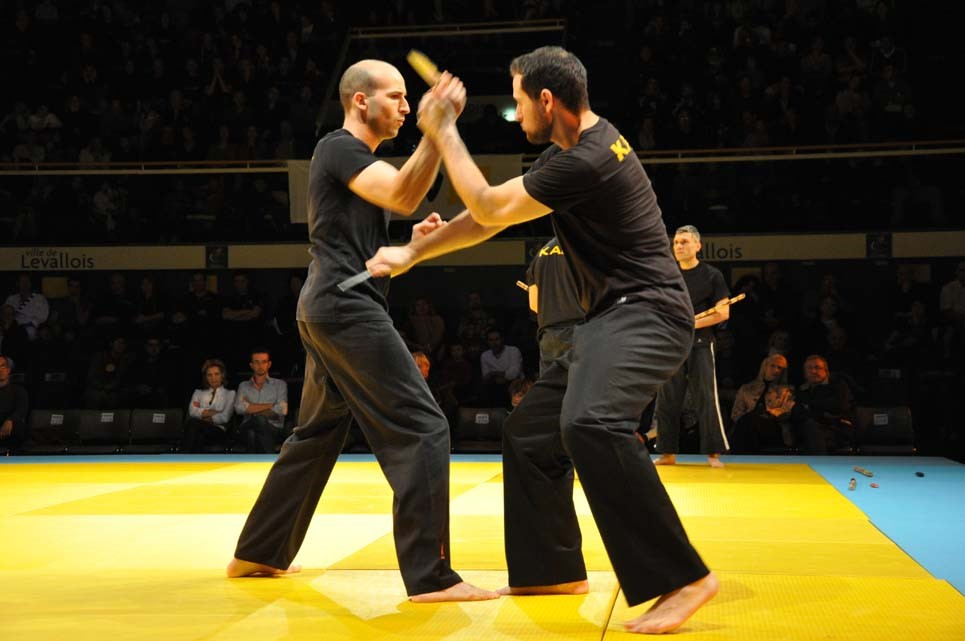baston_e: (696, 292, 743, 320)
baston_v: (740, 290, 746, 299)
